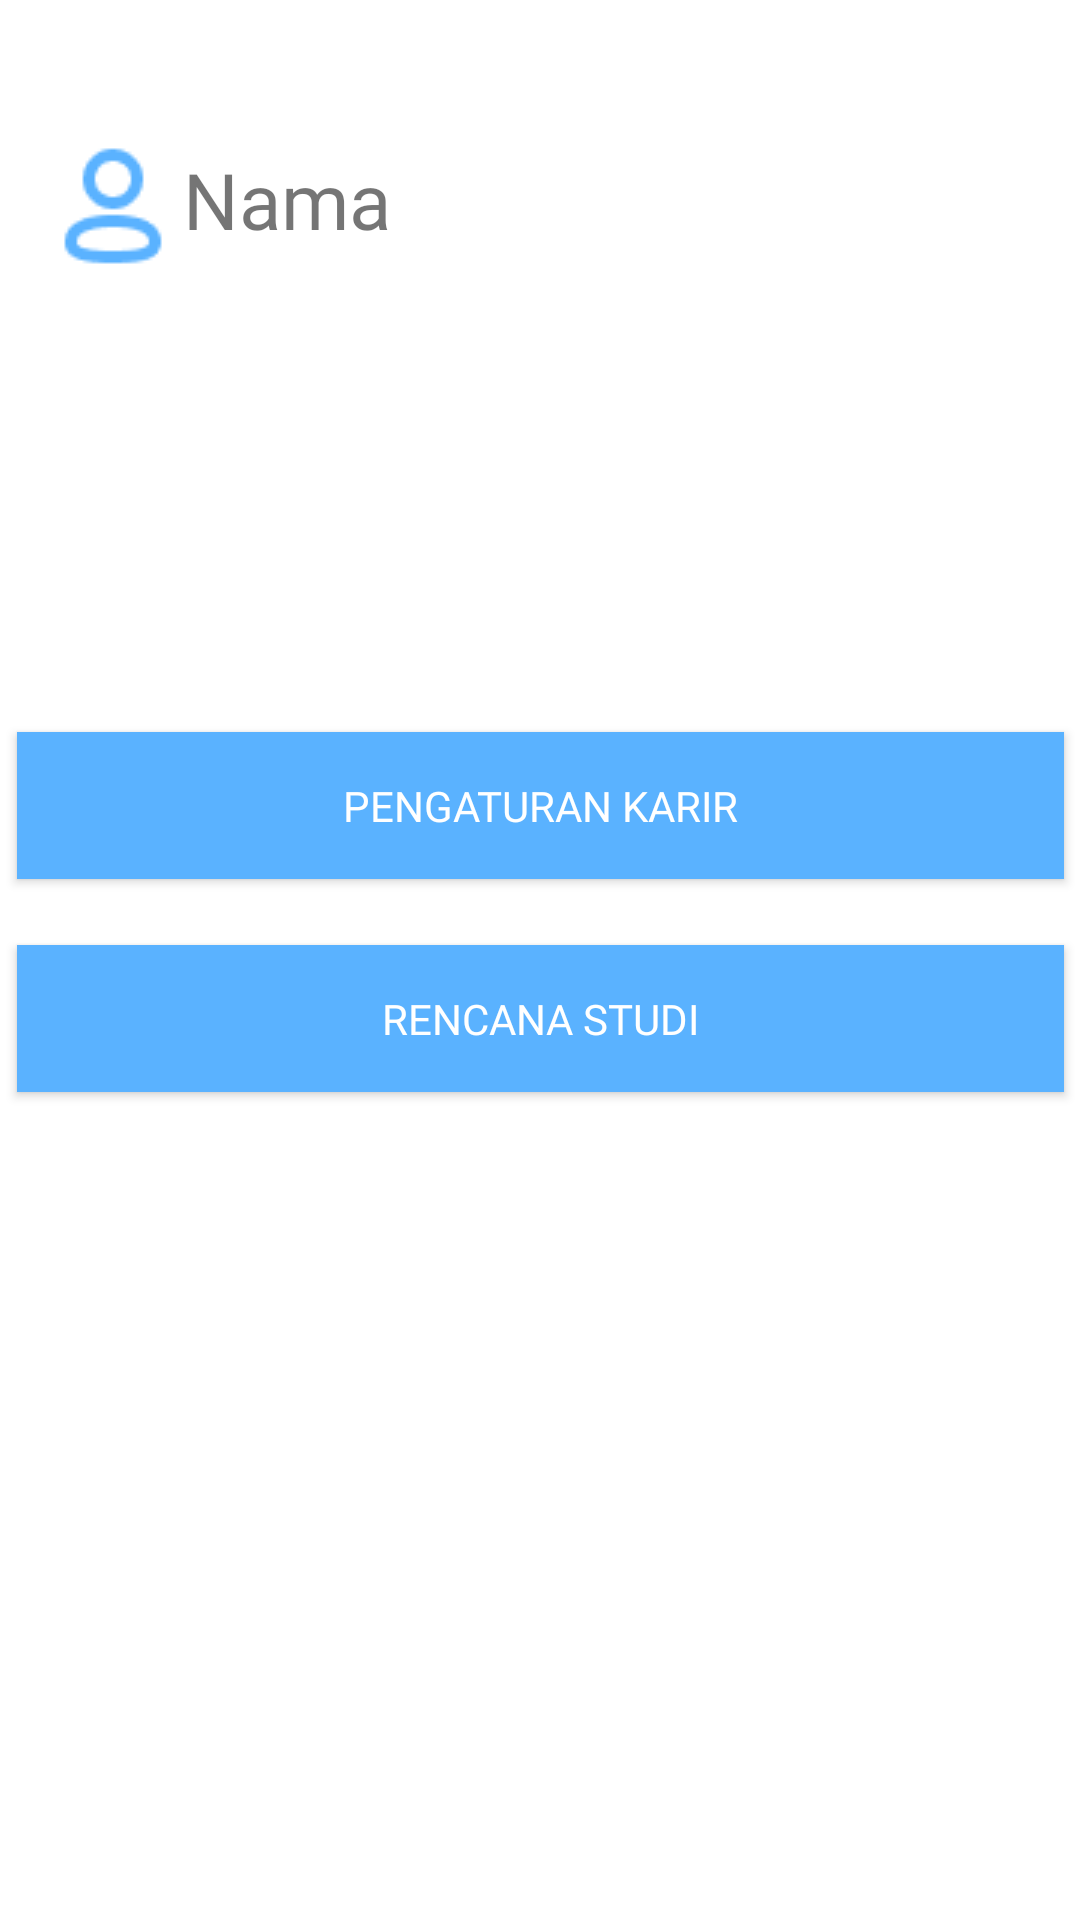

Point at icon controls on the screen. Image size 1080w x 1920h, points as point (x, y).
Profile: point (113, 206)
